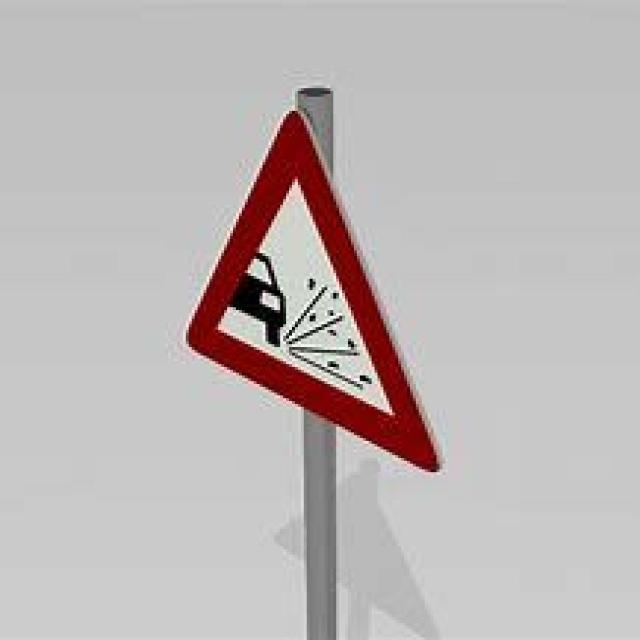loose gravel: (176, 101, 445, 479)
